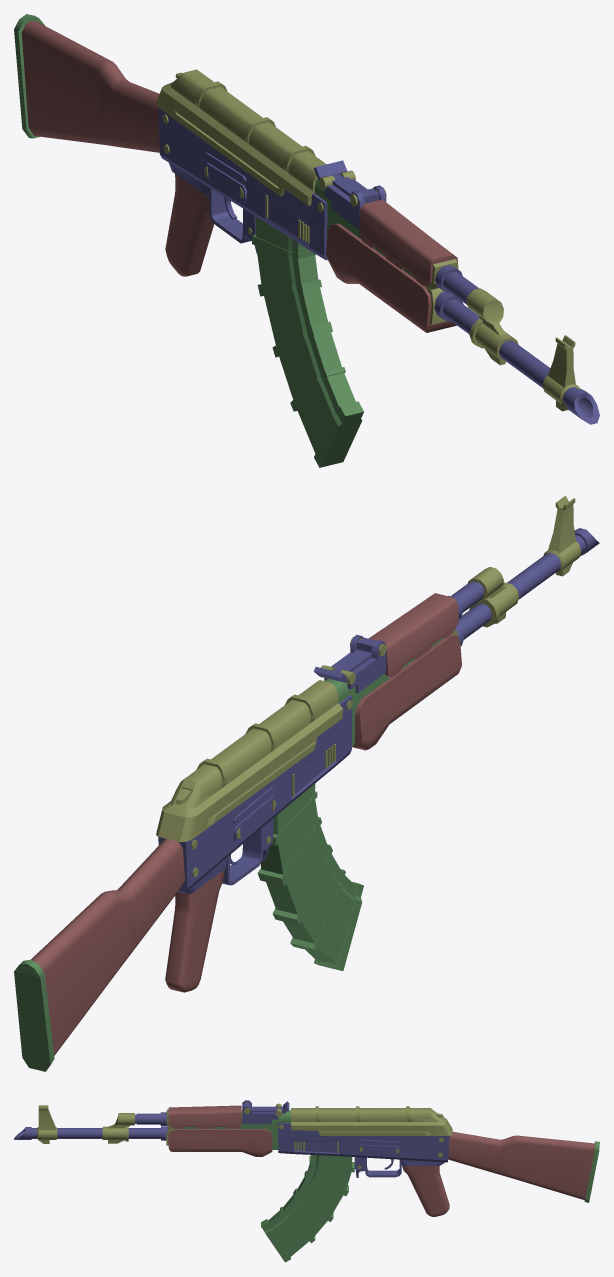
Rendered from CAR.glb.
The picture shows the model from 3 angles, top to bottom: view 1: azimuth 30°, elevation 25°; view 2: azimuth 150°, elevation 25°; view 3: azimuth 270°, elevation 25°; orthographic projection. The views are drawn at different scales.
Parts seen in each view (by area): view 1: Combat; view 2: Combat; view 3: Combat.
Boxes of the visible parts, x1,y1,x2,y2 form: Combat: [14, 14, 599, 467]; Combat: [14, 496, 599, 1071]; Combat: [14, 1100, 599, 1262].
Size of the model in its own units: 0.0334 by 0.2448 by 0.8336.
